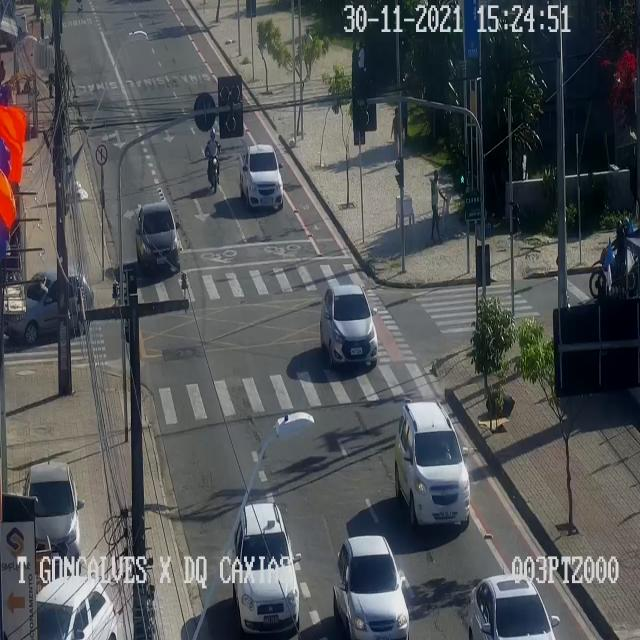Car: (394, 401, 471, 529), (233, 503, 303, 639), (334, 533, 410, 639), (4, 271, 92, 344), (24, 458, 84, 562), (467, 573, 559, 639), (36, 575, 116, 639), (321, 282, 378, 370), (136, 202, 182, 276), (240, 143, 284, 210)
Motorcycle: (589, 218, 639, 298), (205, 128, 221, 192)
